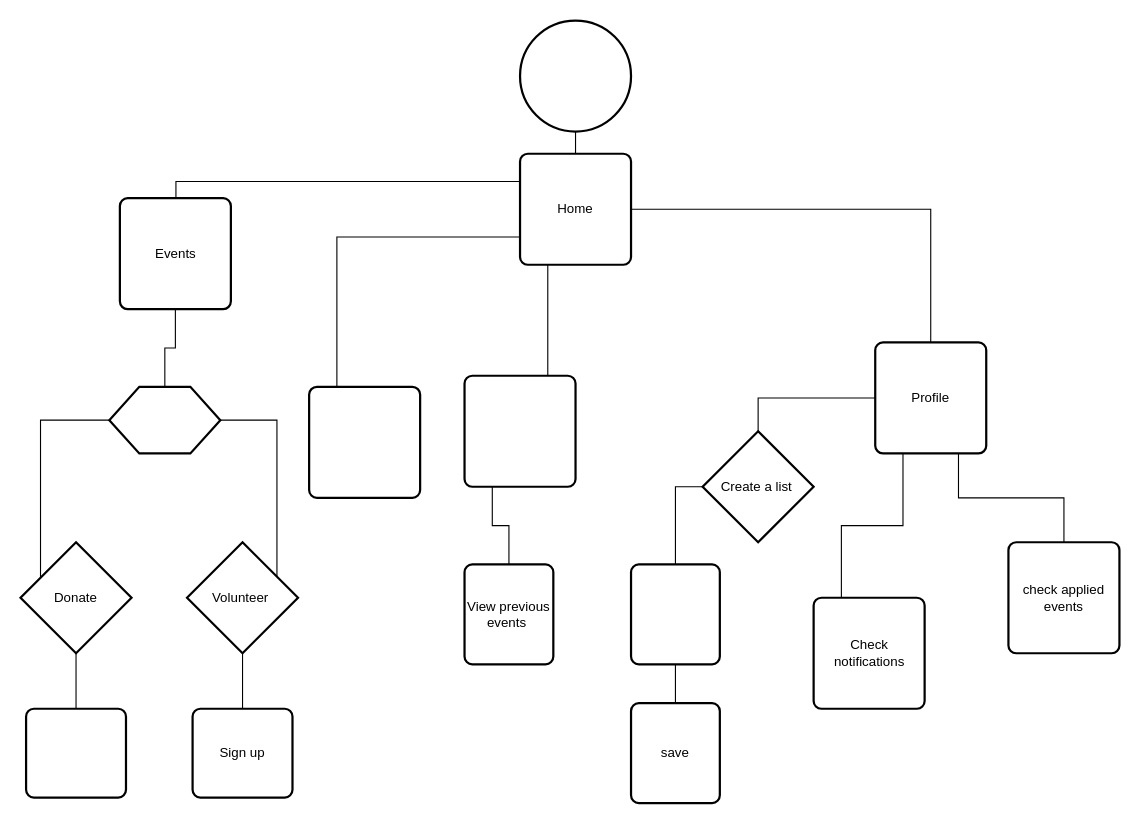
This 1139x823 diagram has some shape labels left out. The shapes that lost their labels are listed below. From the top down, each one's centre as x and y in pixels, then its label:
At pixel 575 75: "Sign in".
At pixel 164 419: "click on an event".
At pixel 519 430: "Gallery".
At pixel 364 441: "about".
At pixel 674 614: "Add to list".
At pixel 75 752: "Give money".
